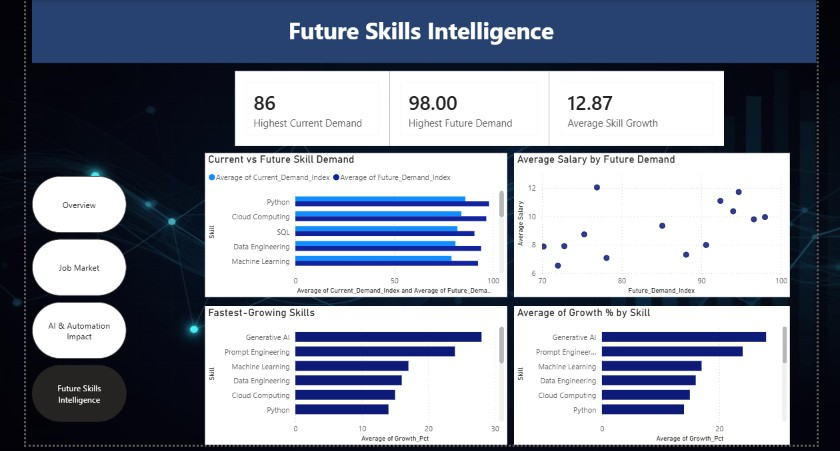

The dashboard page shown, as its layout file describes it:
{"tool":"powerbi","page":{"name":"Future Skills Intelligence ","canvas":[1280,720],"ordinal":3},"visuals":[{"type":"textbox","box":[10,0,1270,101.7],"z":0},{"type":"pageNavigator","box":[9.7,285,153.8,399.9],"z":1000},{"type":"cardVisual","title":"Highest Current Demand","fields":{"Data":["Max(Future_Skills.Current_Demand_Index)"]},"box":[338.4,115,251,121.4],"z":2000},{"type":"cardVisual","fields":{"Data":["Max(Future_Skills.Future_Demand_Index)"]},"box":[589.4,115,257.5,121.4],"z":3000},{"type":"cardVisual","fields":{"Data":["AI_Jobs.Average Skill Growth"]},"box":[846.9,115,283.4,121.4],"z":4000},{"type":"clusteredBarChart","title":"Current vs Future Skill Demand","fields":{"Category":["Future_Skills.Skill"],"Y":["Avg(Future_Skills.Current_Demand_Index)","Avg(Future_Skills.Future_Demand_Index)"]},"box":[289.8,247.7,489,233.2],"z":5000},{"type":"scatterChart","title":"Average Salary by Future Demand","fields":{"X":["Future_Skills.Future_Demand_Index"],"Y":["AI_Jobs.Average Salary"]},"box":[790.2,247.7,446.9,233.2],"z":6000},{"type":"barChart","title":"Fastest-Growing Skills","fields":{"Category":["Future_Skills.Skill"],"Y":["Avg(Future_Skills.Growth_Pct)"]},"box":[289.8,495.5,489,225.1],"z":7000},{"type":"barChart","title":"Average of Growth % by Skill","fields":{"Category":["Future_Skills.Skill"],"Y":["Avg(Future_Skills.Growth_Pct)"]},"box":[790.2,495.5,446.9,225.1],"z":8000}]}

Visuals, with their boxes in screenshot pixels (x1, y1, x2, y2):
textbox: 30:0:814:61
pageNavigator: 30:174:125:421
"Highest Current Demand" cardVisual: 233:69:388:144
cardVisual - Max(Future_Skills.Future_Demand_Index): 388:69:547:144
cardVisual - AI_Jobs.Average Skill Growth: 547:69:722:144
"Current vs Future Skill Demand" clusteredBarChart: 203:151:505:295
"Average Salary by Future Demand" scatterChart: 512:151:788:295
"Fastest-Growing Skills" barChart: 203:304:505:443
"Average of Growth % by Skill" barChart: 512:304:788:443
